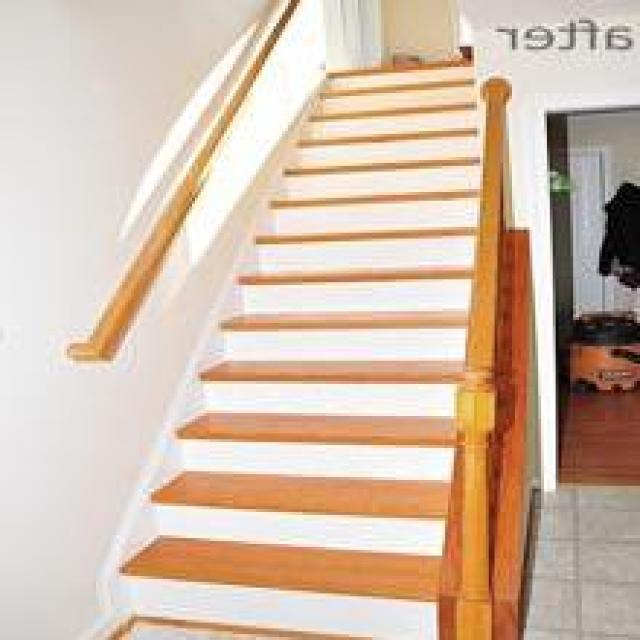Stairs: (148, 79, 520, 621)
